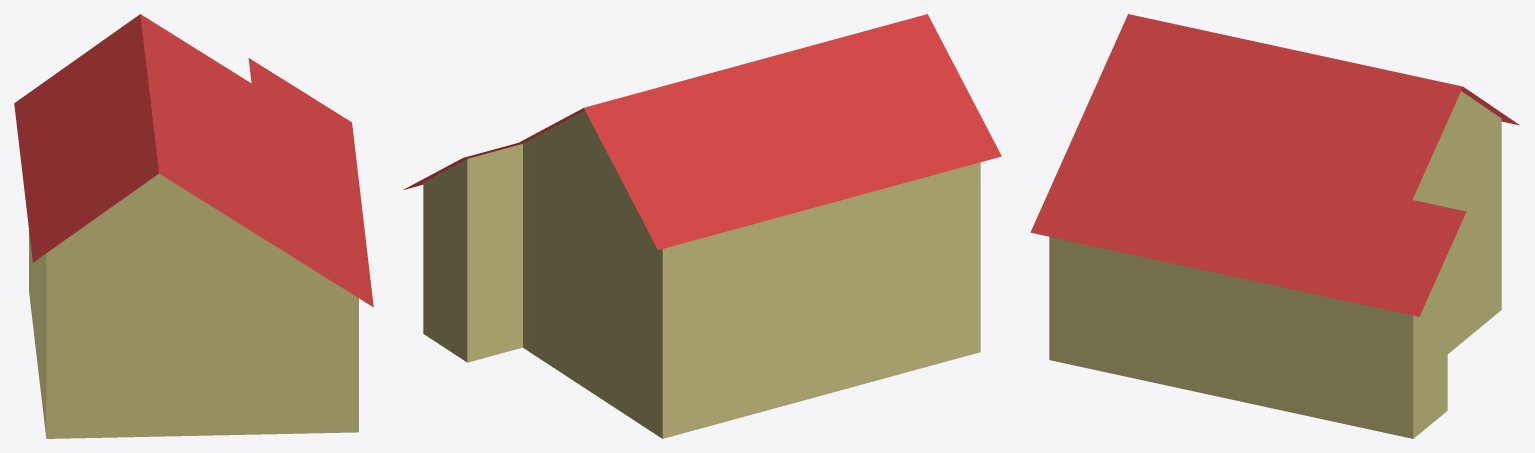
The picture shows the model from 3 angles, left to right: view 1: azimuth 30°, elevation 25°; view 2: azimuth 150°, elevation 25°; view 3: azimuth 270°, elevation 25°; orthographic projection. The views are drawn at different scales.
Size of the model in its own units: 17.84 by 17.41 by 10.51.
